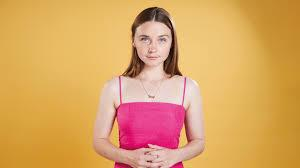person: (127, 0, 181, 66)
